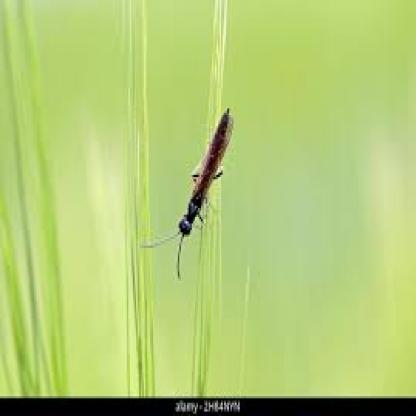sawfly: (145, 106, 236, 274)
